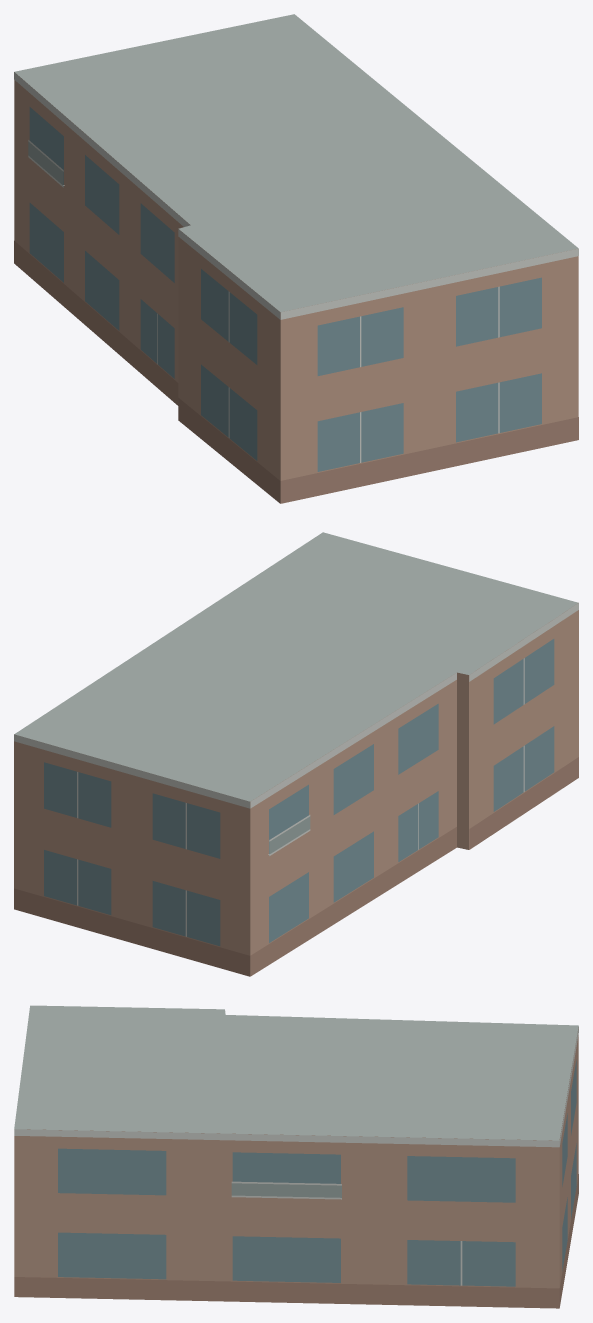
The model's file is survey-upis-32872785.glb.
3 renders of one model, top to bottom at view 1: azimuth 30°, elevation 25°; view 2: azimuth 150°, elevation 25°; view 3: azimuth 270°, elevation 25°, orthographic. The views are drawn at different scales.
Parts seen in each view (by area): view 1: survey-upis-32872785.tmp; view 2: survey-upis-32872785.tmp; view 3: survey-upis-32872785.tmp.
Part boxes in pixels (box(x1,y1,x2,y2)): survey-upis-32872785.tmp: box(14, 14, 578, 503); survey-upis-32872785.tmp: box(14, 532, 578, 976); survey-upis-32872785.tmp: box(14, 1005, 578, 1308).
Bounding box in the file's own units: 10.54 × 6.1 × 18.61.
